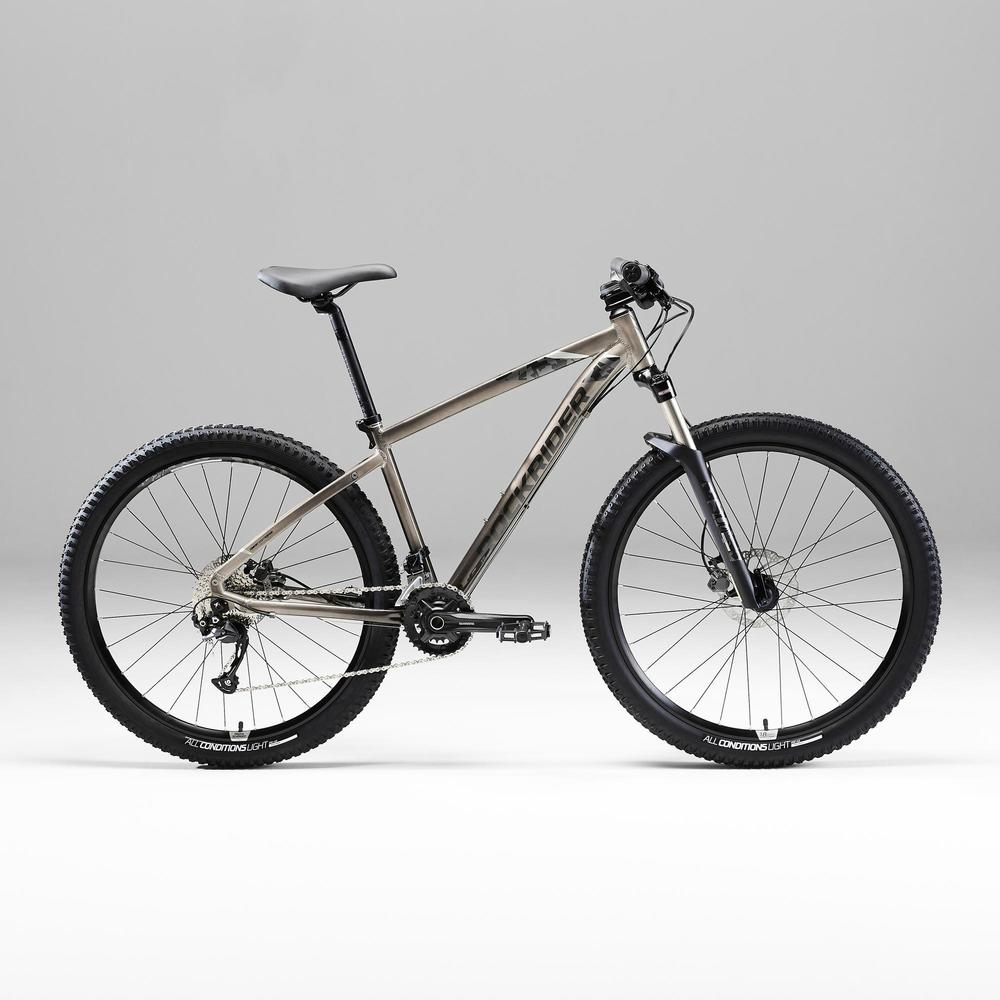MountainBike: (50, 249, 925, 764)
